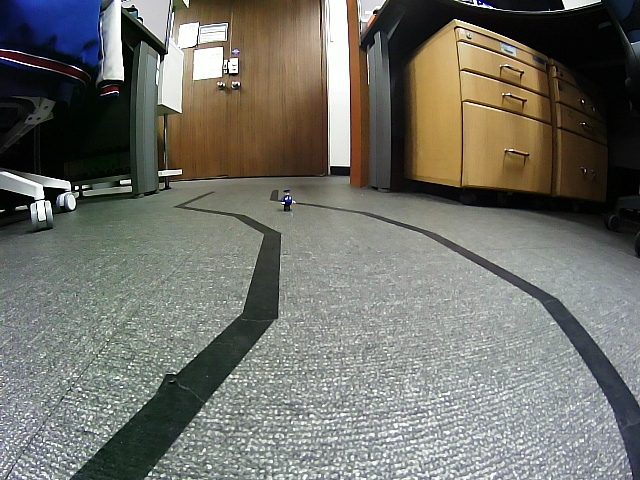person: (281, 189, 296, 212)
